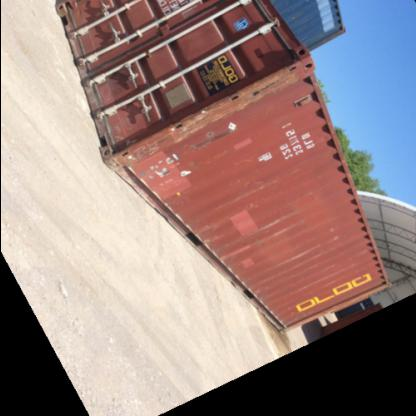Damage: (194, 62, 298, 118), (220, 207, 298, 262), (123, 127, 178, 181), (300, 224, 344, 268), (226, 172, 280, 204), (188, 121, 242, 152), (280, 275, 333, 301)
